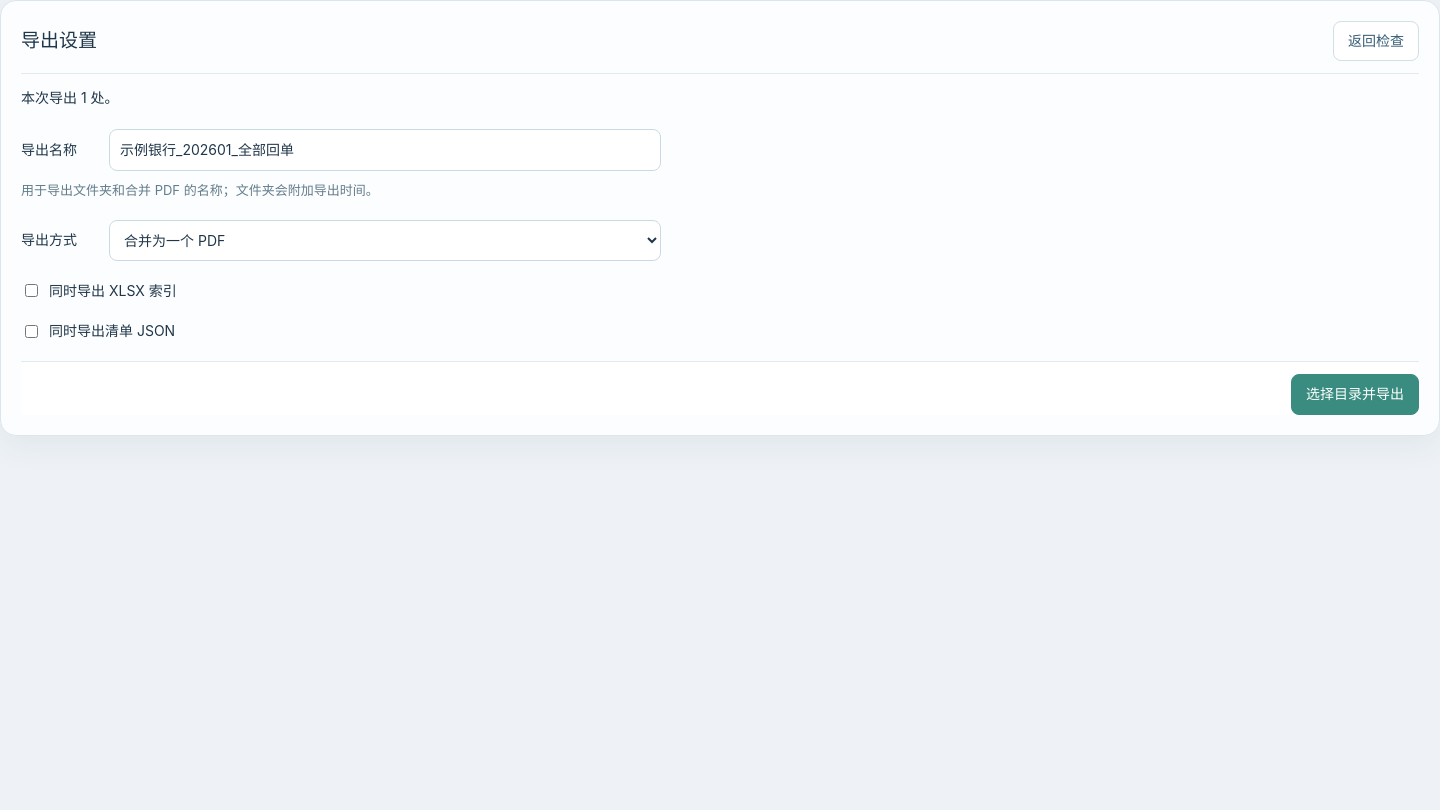
Test case: ReceiptExportWorkspace direct export › retries an uncertain publication with the same intent and directory instead of making duplicate output
Step 1. Click the button "选择目录并导出" → [1355, 394], box left=1291, top=374, right=1419, bottom=415
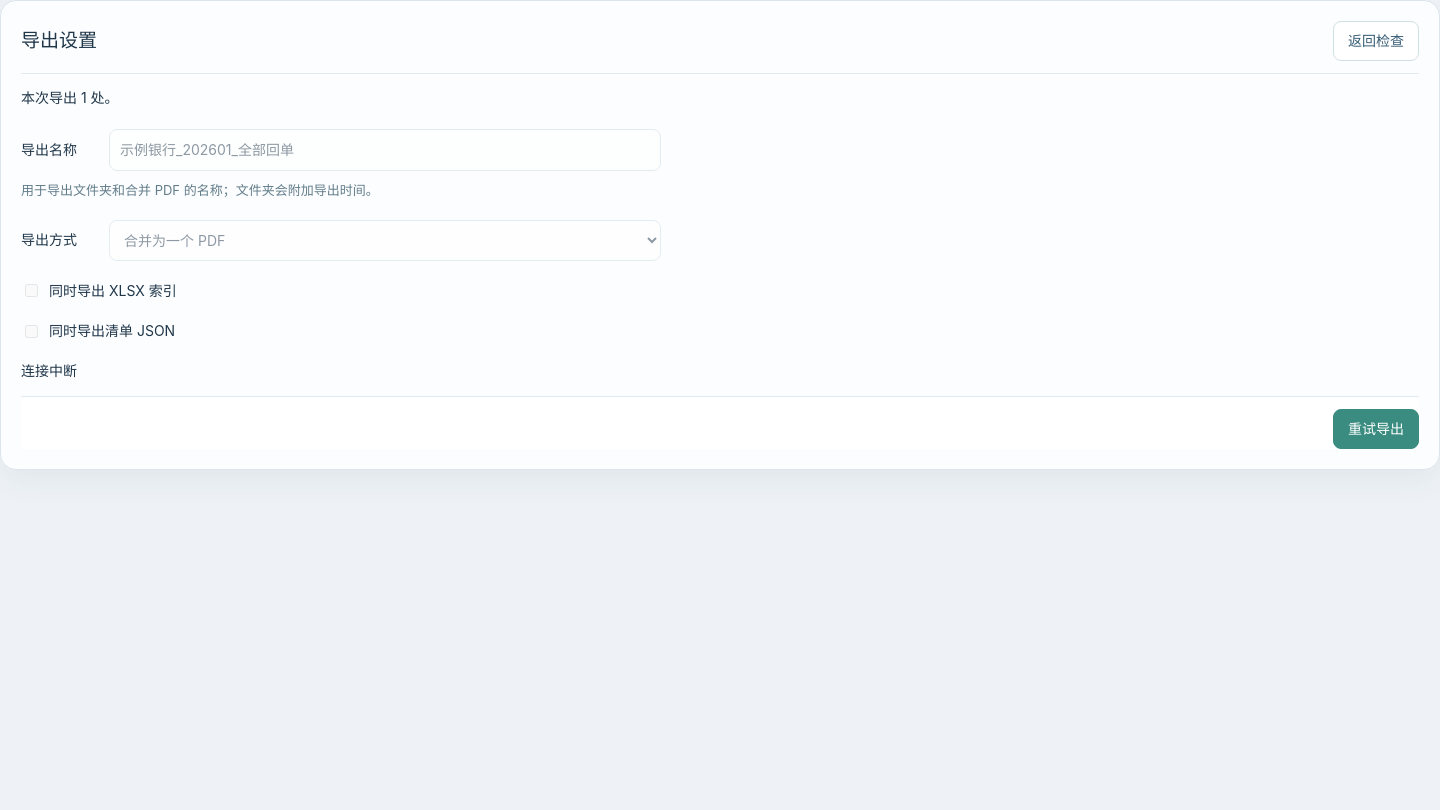
Expected: the text "连接中断" is shown, left=21, top=362, right=77, bottom=379
Expected: the dropdown labelled "导出方式" is disabled, left=109, top=220, right=661, bottom=261
Step 2. Click the button "重试导出" → [1376, 429], box left=1333, top=409, right=1419, bottom=449
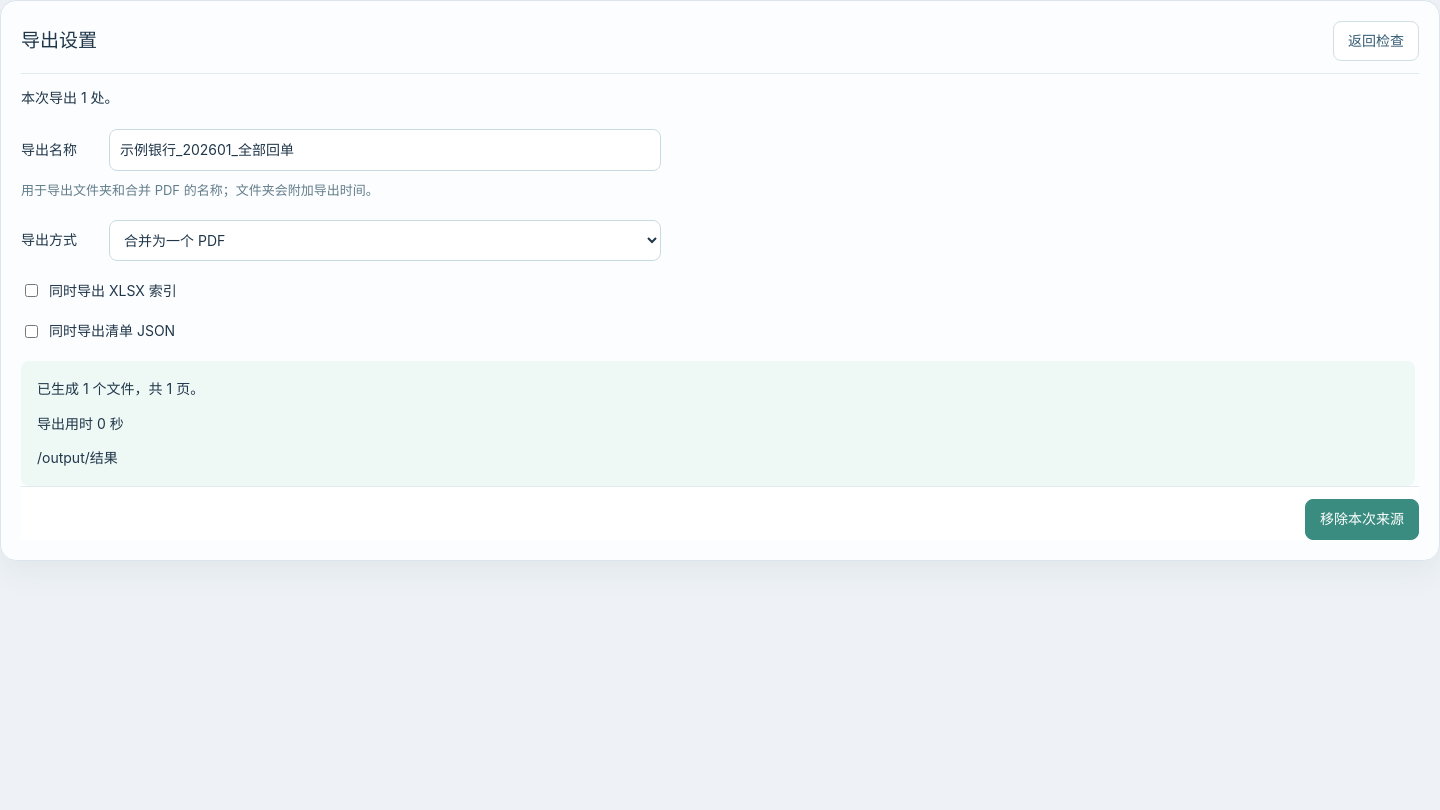
Expected: the text "已生成 1 个文件，共 1 页。" is shown, left=37, top=380, right=204, bottom=397
